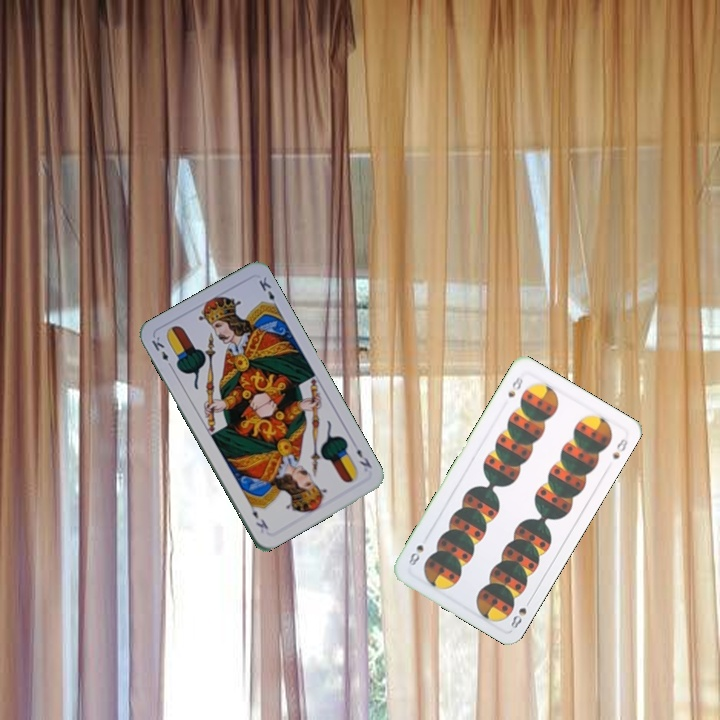EK: (147, 332, 175, 371), (352, 445, 374, 471)
S8: (507, 594, 534, 631), (504, 370, 525, 400)
